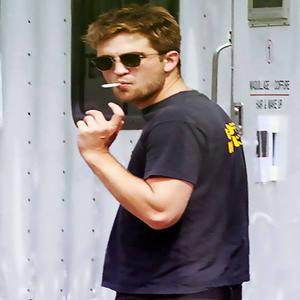cigarette: (98, 81, 122, 90)
